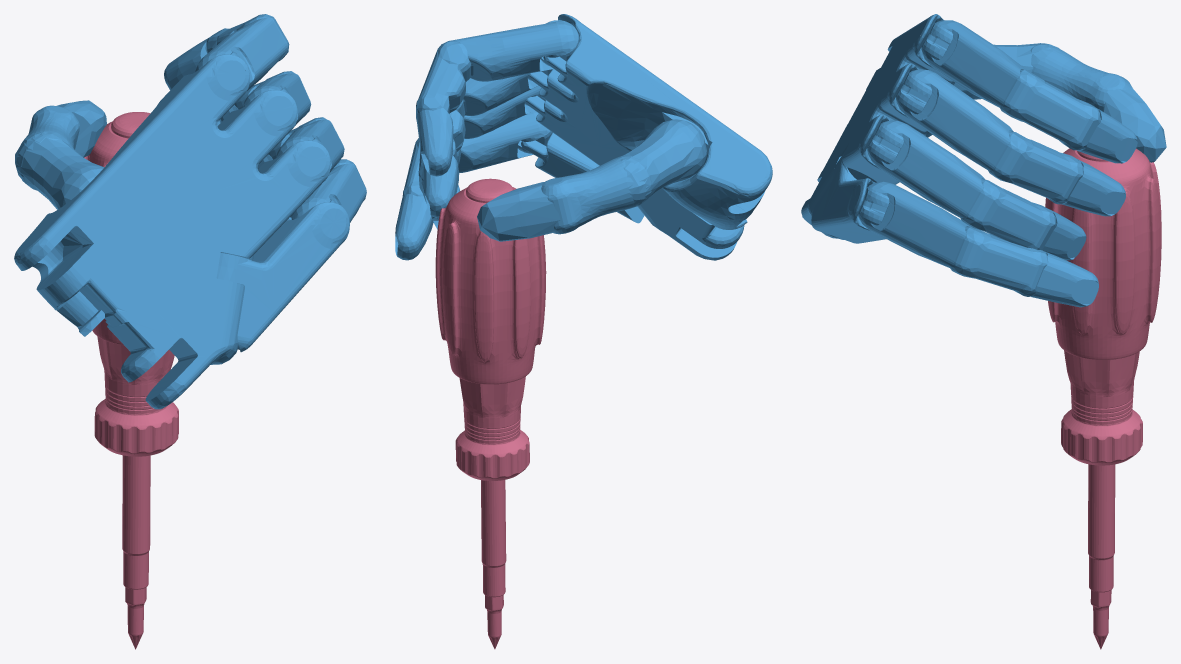
The picture shows the model from 3 angles, left to right: view 1: azimuth 30°, elevation 25°; view 2: azimuth 150°, elevation 25°; view 3: azimuth 270°, elevation 25°; orthographic projection. The views are drawn at different scales.
Parts seen in each view (by area): view 1: 6; view 2: 6; view 3: 6.
Boxes of the visible parts, x1,y1,x2,y2 form: 6: (14,14,366,649); 6: (395,14,772,649); 6: (801,14,1166,649).
Size of the model in its own units: 0.1587 by 0.2668 by 0.1391.
